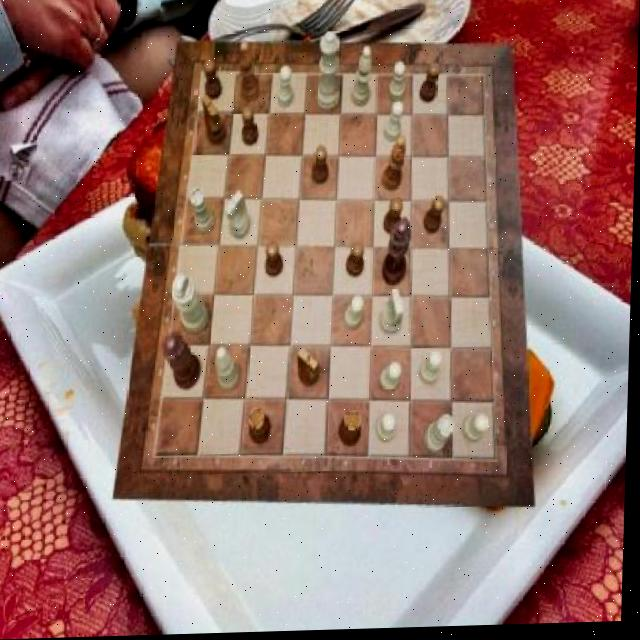bishop: (239, 41, 261, 102), (385, 138, 408, 192)
black-bishop: (384, 220, 413, 289)
black-king: (203, 96, 228, 148), (298, 349, 322, 390)
black-knight: (420, 67, 441, 107), (425, 199, 447, 237), (204, 61, 224, 101), (385, 200, 405, 238), (242, 108, 260, 148), (312, 147, 330, 186), (267, 243, 285, 279), (347, 244, 365, 279)
black-pawn: (165, 332, 206, 391)
black-queen: (251, 409, 274, 447), (342, 412, 365, 450)
black-rook: (351, 50, 373, 110), (217, 348, 243, 393)
white-bishop: (172, 275, 212, 336)
white-king: (227, 193, 252, 241), (383, 290, 407, 337)
white-knight: (422, 353, 446, 388), (384, 105, 404, 145), (465, 418, 493, 446), (346, 297, 367, 332), (277, 67, 294, 109), (390, 64, 407, 105), (381, 364, 405, 392), (378, 415, 399, 444)
white-pawn: (316, 32, 342, 113)
white-queen: (191, 189, 217, 235), (428, 417, 459, 455)
